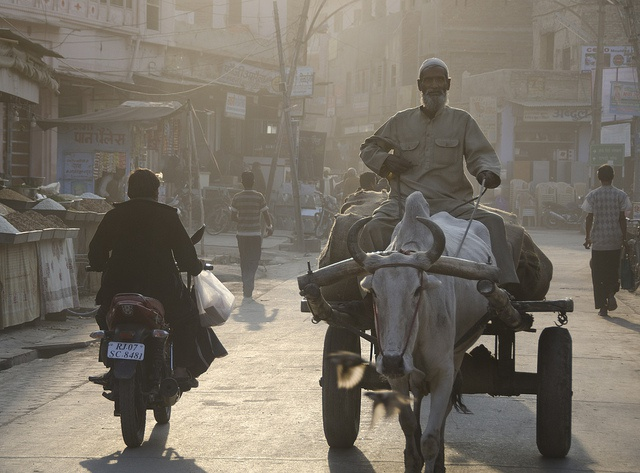non-vehicle: (96, 292, 179, 453), (542, 193, 585, 231), (314, 191, 342, 237)
